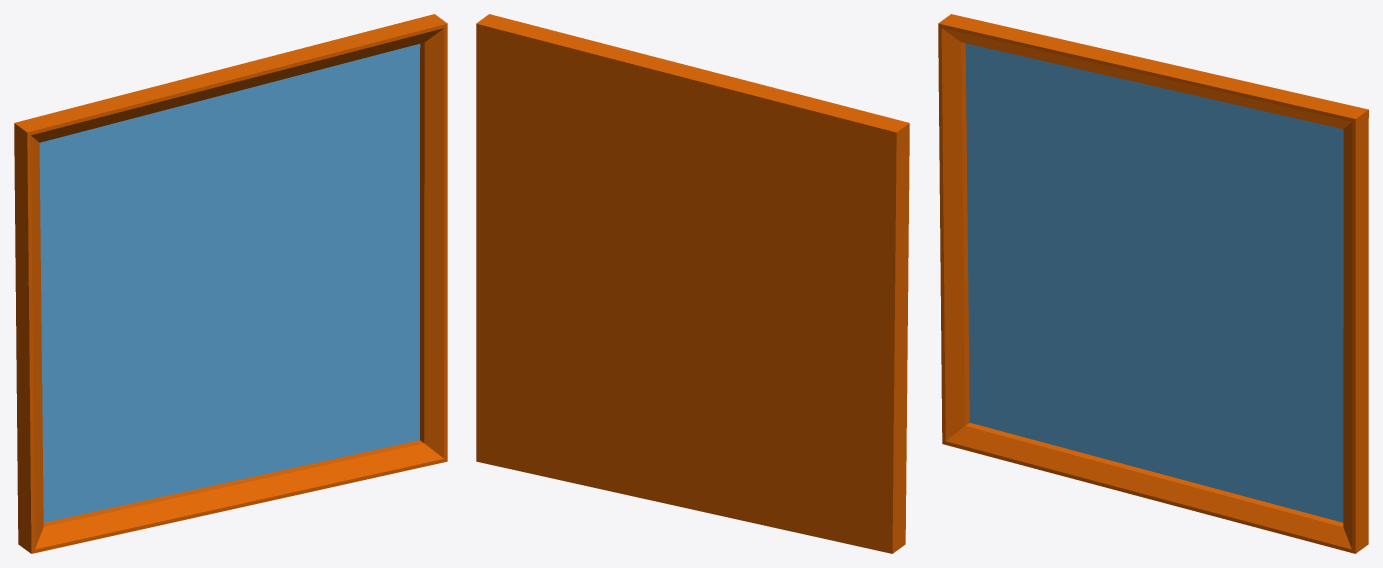
Rendered from WallArt.glb.
3 views of the same model, side by side, from view 1: azimuth 30°, elevation 25°; view 2: azimuth 150°, elevation 25°; view 3: azimuth 330°, elevation 25° (orthographic).
Visible parts, largest first — view 1: WallArt; view 2: WallArt; view 3: WallArt.
Boxes of the visible parts, x1=… form: WallArt: x1=14, y1=14, x2=447, y2=553; WallArt: x1=476, y1=14, x2=909, y2=553; WallArt: x1=938, y1=14, x2=1368, y2=553.
Bounding box in the file's own units: 0.9918 × 0.987 × 0.0537.
